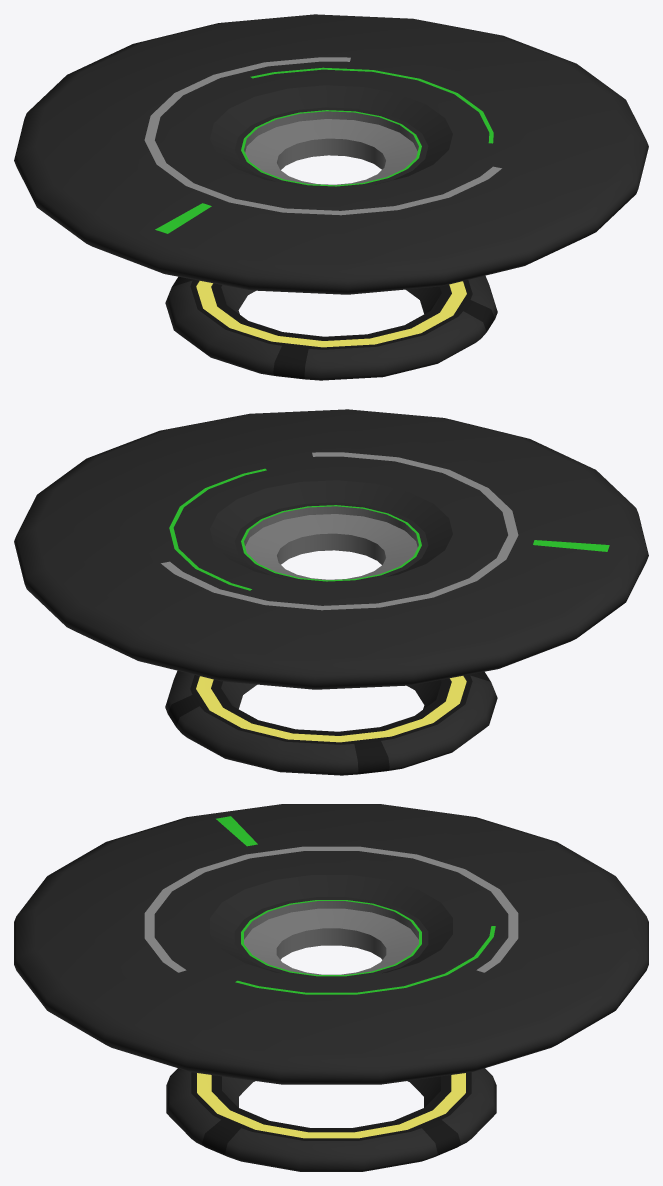
The model's file is W_O_Info_004_L1.fbx.
The picture shows the model from 3 angles, top to bottom: view 1: azimuth 30°, elevation 25°; view 2: azimuth 150°, elevation 25°; view 3: azimuth 270°, elevation 25°; orthographic projection.
Parts seen in each view (by area): view 1: W_O_Info_004_L1; view 2: W_O_Info_004_L1; view 3: W_O_Info_004_L1.
Boxes of the visible parts, x1,y1,x2,y2 form: W_O_Info_004_L1: [14, 14, 648, 380]; W_O_Info_004_L1: [14, 409, 648, 775]; W_O_Info_004_L1: [14, 804, 648, 1171].
Bounding box in the file's own units: 2.87 × 0.8896 × 2.87.
